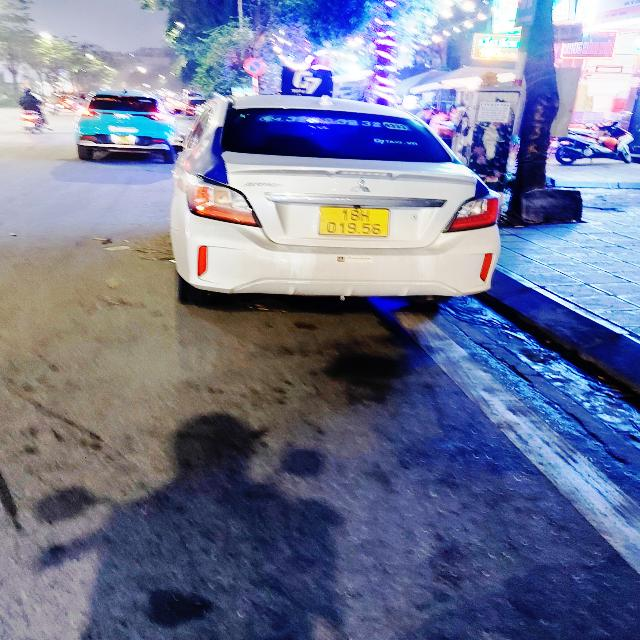license_plate: (317, 207, 394, 240)
